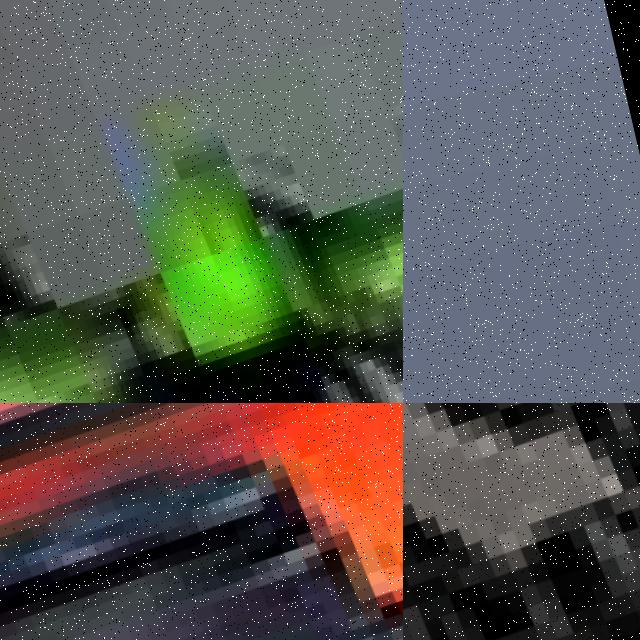0: (0, 0, 403, 403)
drone: (0, 403, 403, 640), (403, 403, 640, 640)
